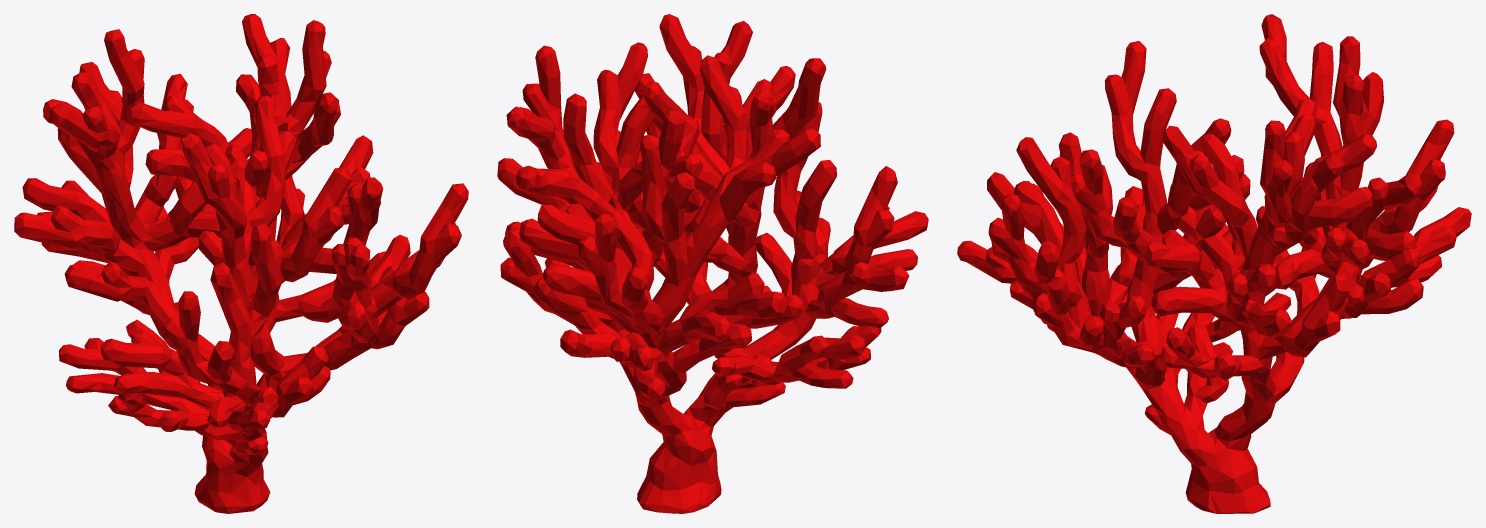
The model's file is Coral.glb.
3 renders of one model, left to right at view 1: azimuth 30°, elevation 25°; view 2: azimuth 150°, elevation 25°; view 3: azimuth 270°, elevation 25°, orthographic. The views are drawn at different scales.
Visible parts, largest first — view 1: Coral; view 2: Coral; view 3: Coral.
Part boxes in pixels (bbox=[...]): Coral: bbox=[14, 14, 468, 513]; Coral: bbox=[497, 14, 928, 513]; Coral: bbox=[957, 14, 1471, 513].
Bounding box in the file's own units: 141 × 175 × 188.
